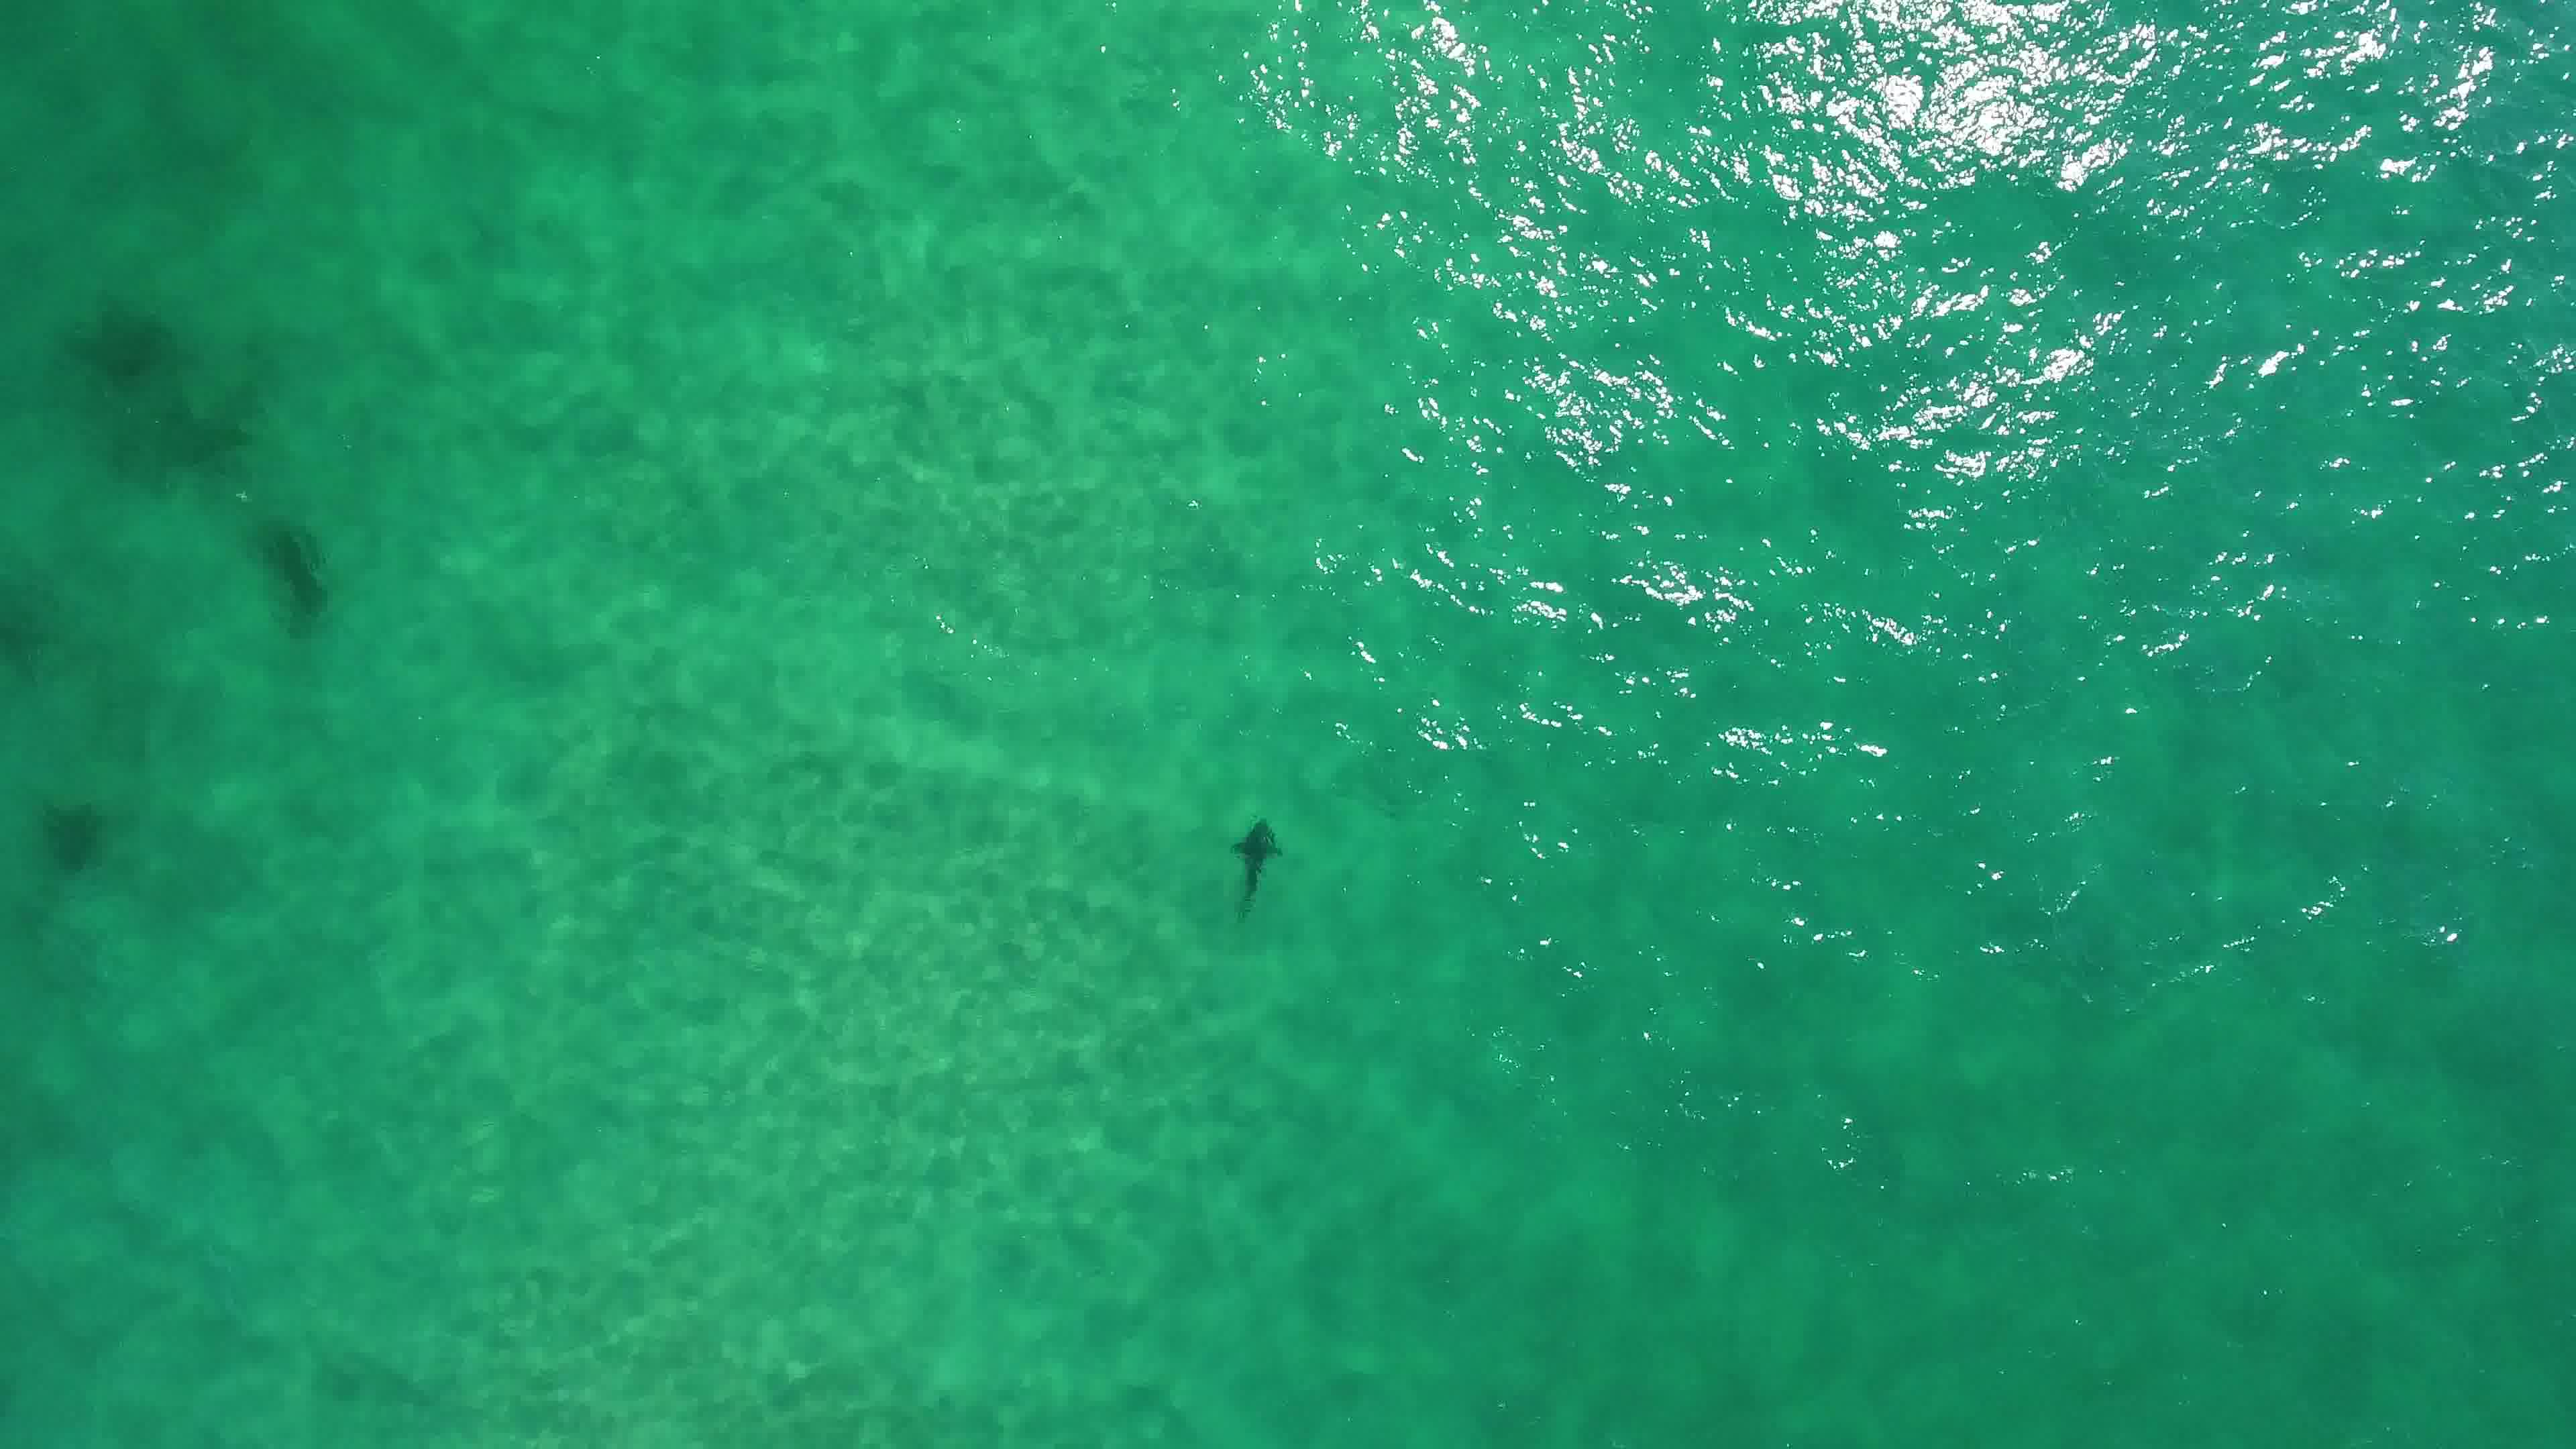shark: (1219, 810, 1290, 920)
